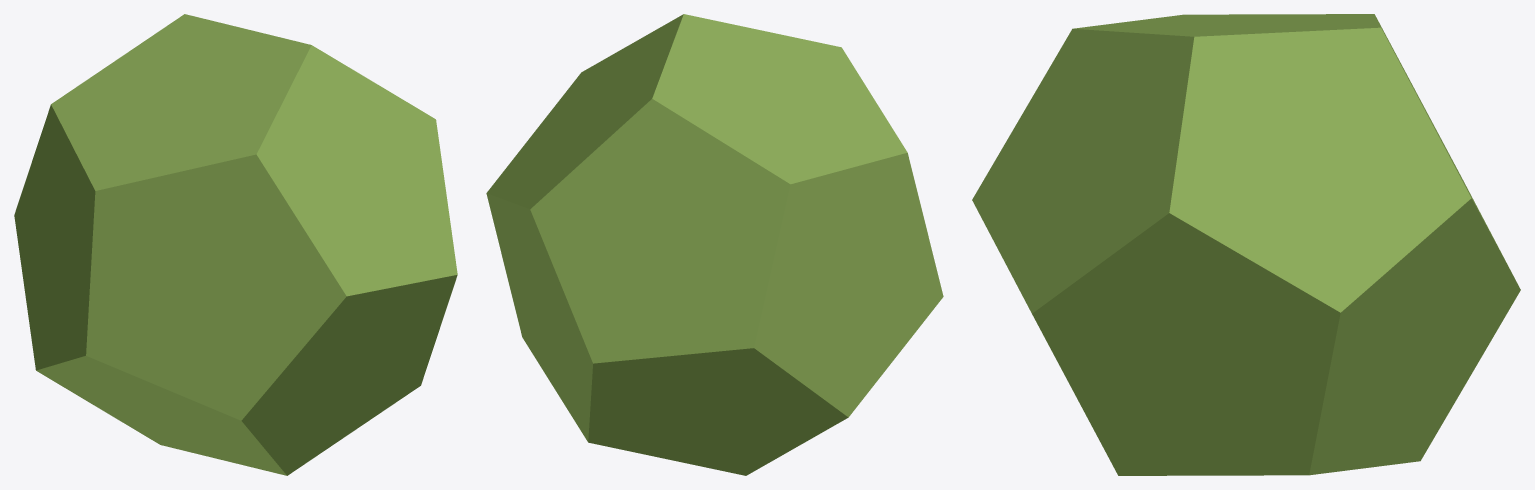
Rendered from canopy-4.glb.
3 views of the same model, side by side, from view 1: azimuth 30°, elevation 25°; view 2: azimuth 150°, elevation 25°; view 3: azimuth 270°, elevation 25° (orthographic). The views are drawn at different scales.
Parts seen in each view (by area): view 1: Canopy 4; view 2: Canopy 4; view 3: Canopy 4.
Boxes of the visible parts, x1,y1,x2,y2 form: Canopy 4: (14, 14, 457, 475); Canopy 4: (486, 14, 943, 475); Canopy 4: (972, 14, 1520, 475).
Size of the model in its own units: 26 by 26.57 by 27.66.
